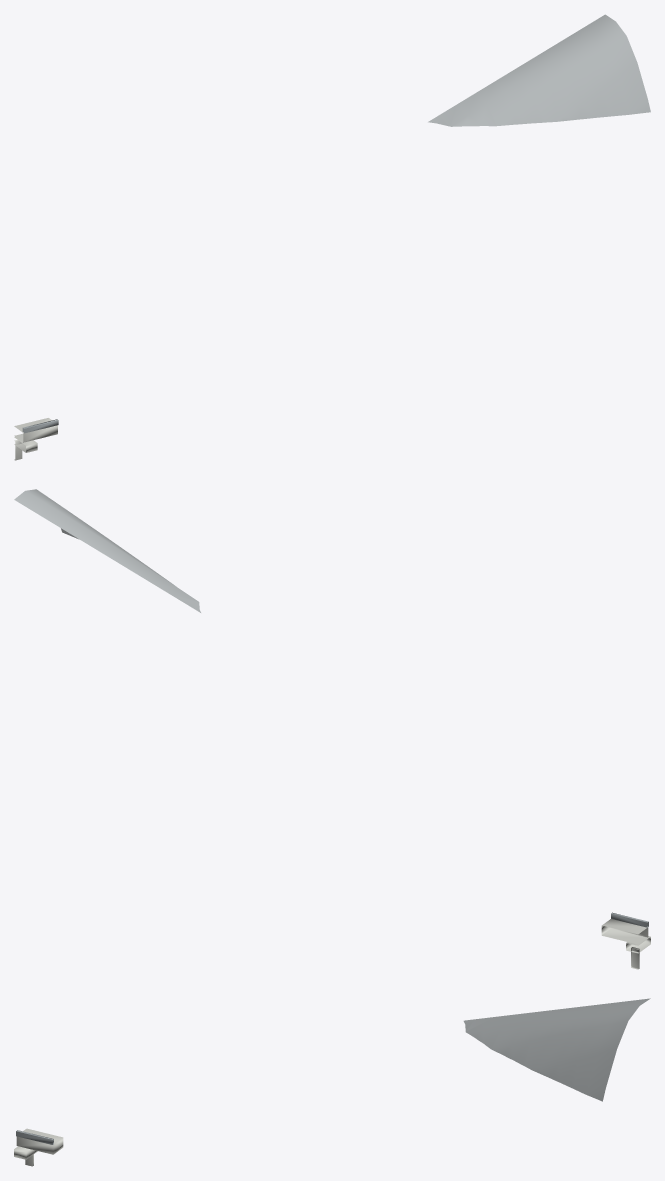
The model's file is alpine-10-12.glb.
3 views of the same model, one above another, from view 1: azimuth 30°, elevation 25°; view 2: azimuth 150°, elevation 25°; view 3: azimuth 330°, elevation 25° (orthographic). The views are drawn at different scales.
Visible parts, largest first — view 1: alpine-10-12; view 2: alpine-10-12; view 3: alpine-10-12.
Part boxes in pixels (x1,y1,x2,y2): alpine-10-12: (14, 14, 650, 460); alpine-10-12: (14, 489, 650, 969); alpine-10-12: (14, 998, 650, 1166).
Size of the model in its own units: 256 by 125 by 34.24.
3 materials, 3 textured.
